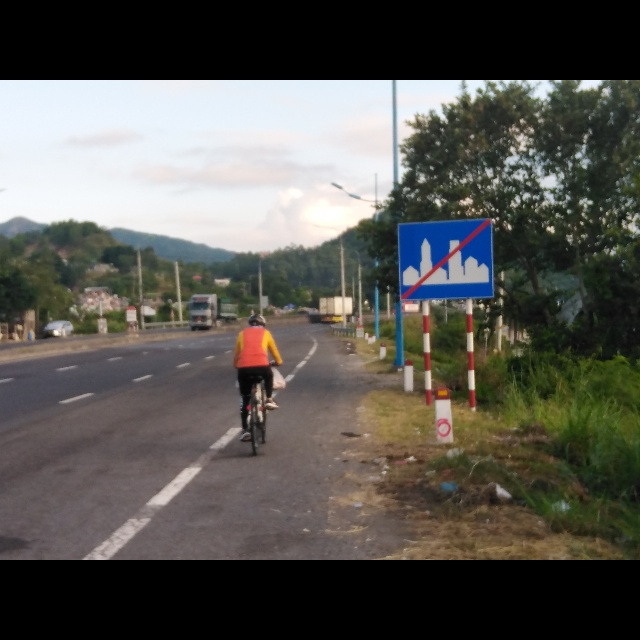Hết khu đông dân cư: (397, 217, 495, 303)
